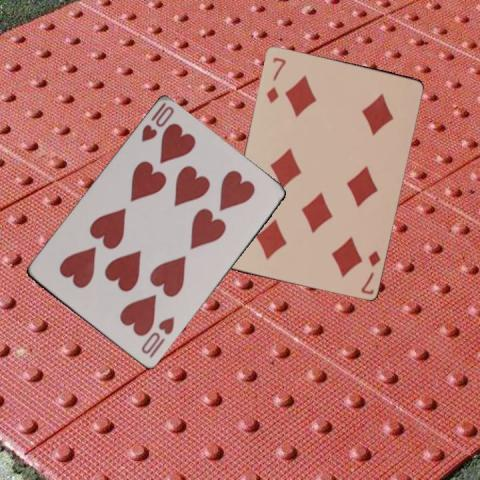10h: (138, 314, 176, 360), (138, 99, 176, 144)
7d: (262, 54, 286, 105), (357, 248, 382, 296)
